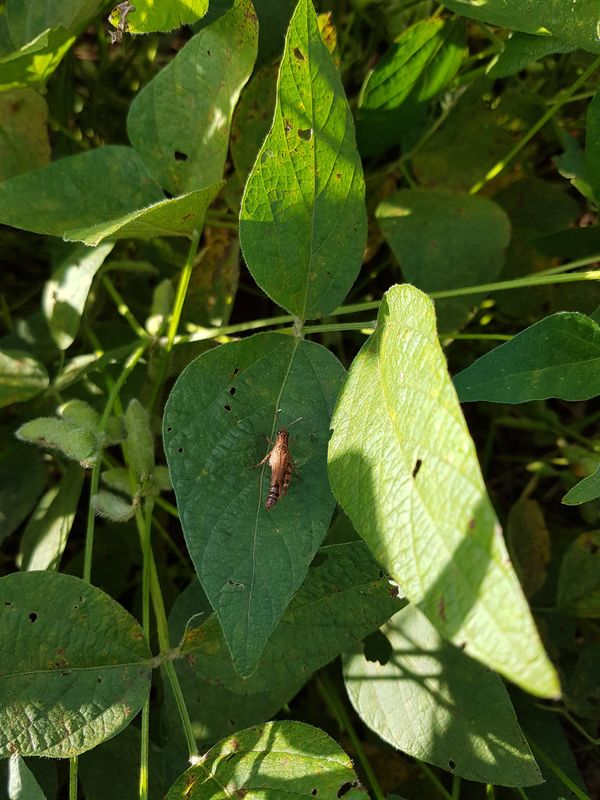Rhammatocerus_schistocercoides: (244, 405, 322, 519)
